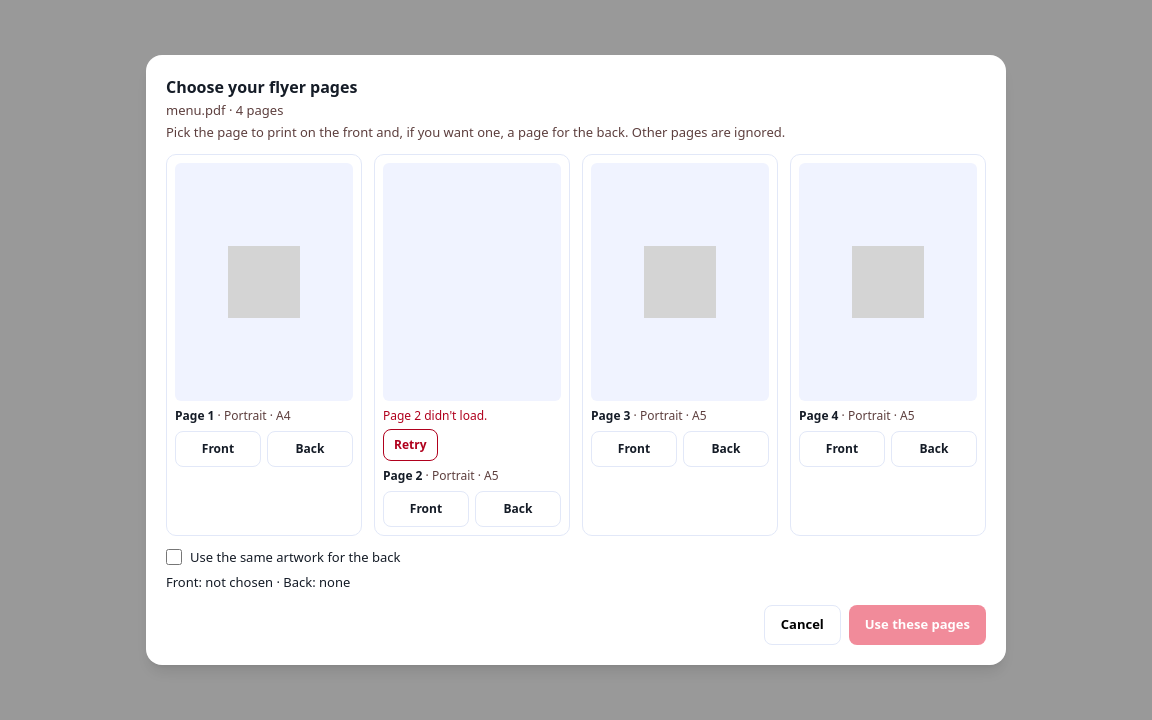
Test: PagePicker when things fail › shows Retry for a thumbnail that didn't load, and asks for it again under a new URL
The width and height of the screenshot is (1152, 720).
Check: the text "Page 2 didn't load." is shown, box [383,407,487,424]
Check: the number of messages is 1, box [383,407,487,461]
Click the button with aria-label "Retry loading page 2": (410, 445) [383,429,438,461]
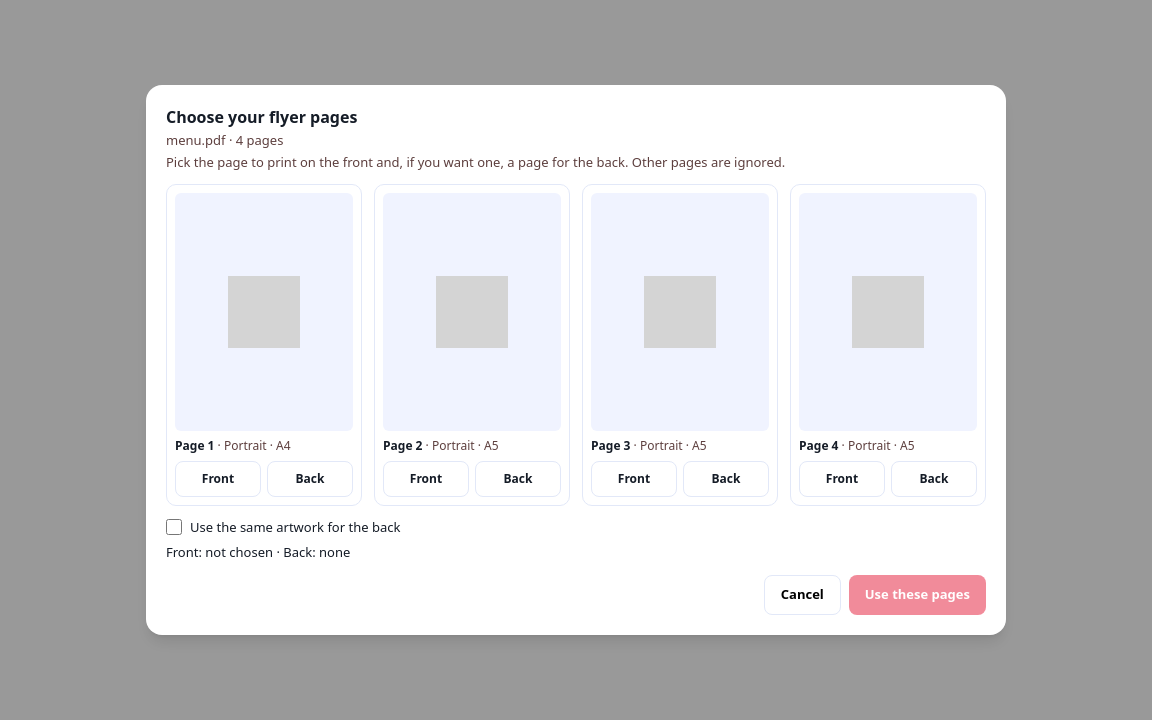
Check: the text "Page 2 didn't load." is gone
